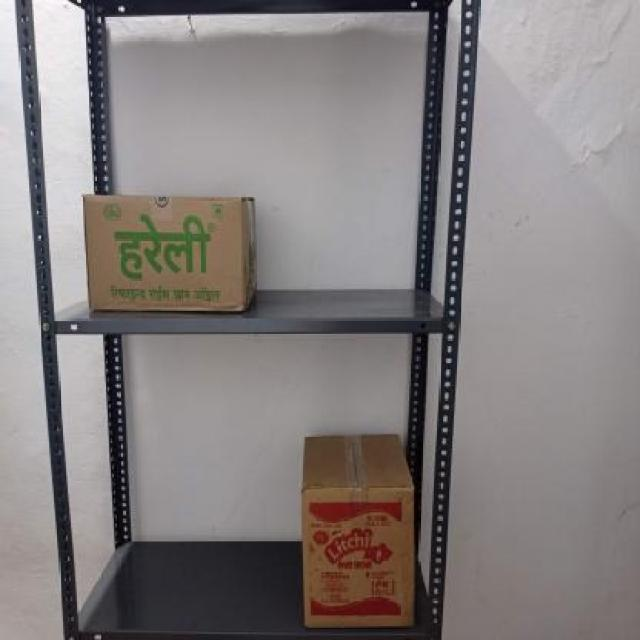box: (83, 193, 243, 312), (300, 486, 416, 628)
